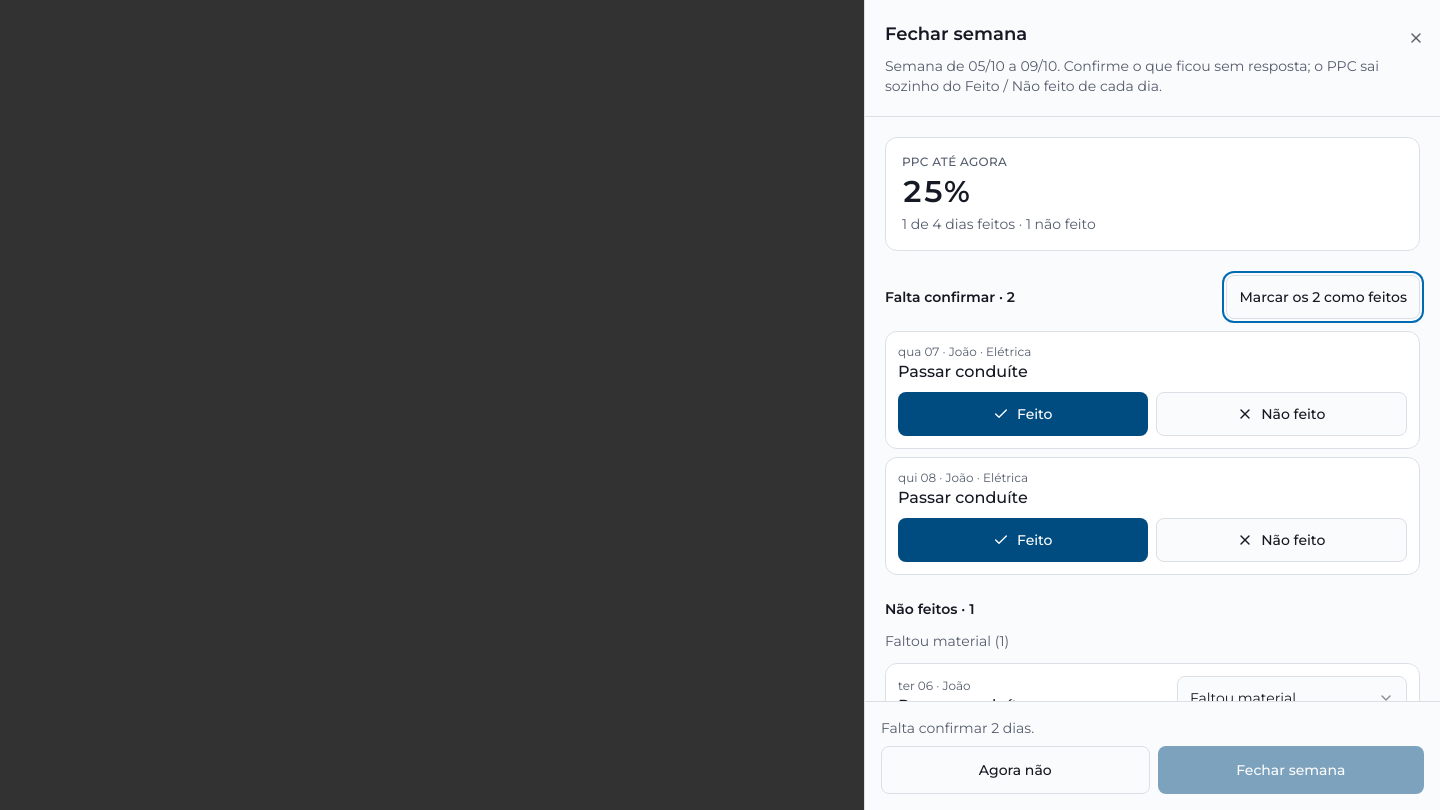
CloseWeekSheet › 'Feito' grava na hora e tira o dia da lista
Click the button with aria-label "Feito: Passar conduíte, qua 07". click: coordinates (1023, 414)
box: left=898, top=392, right=1148, bottom=436
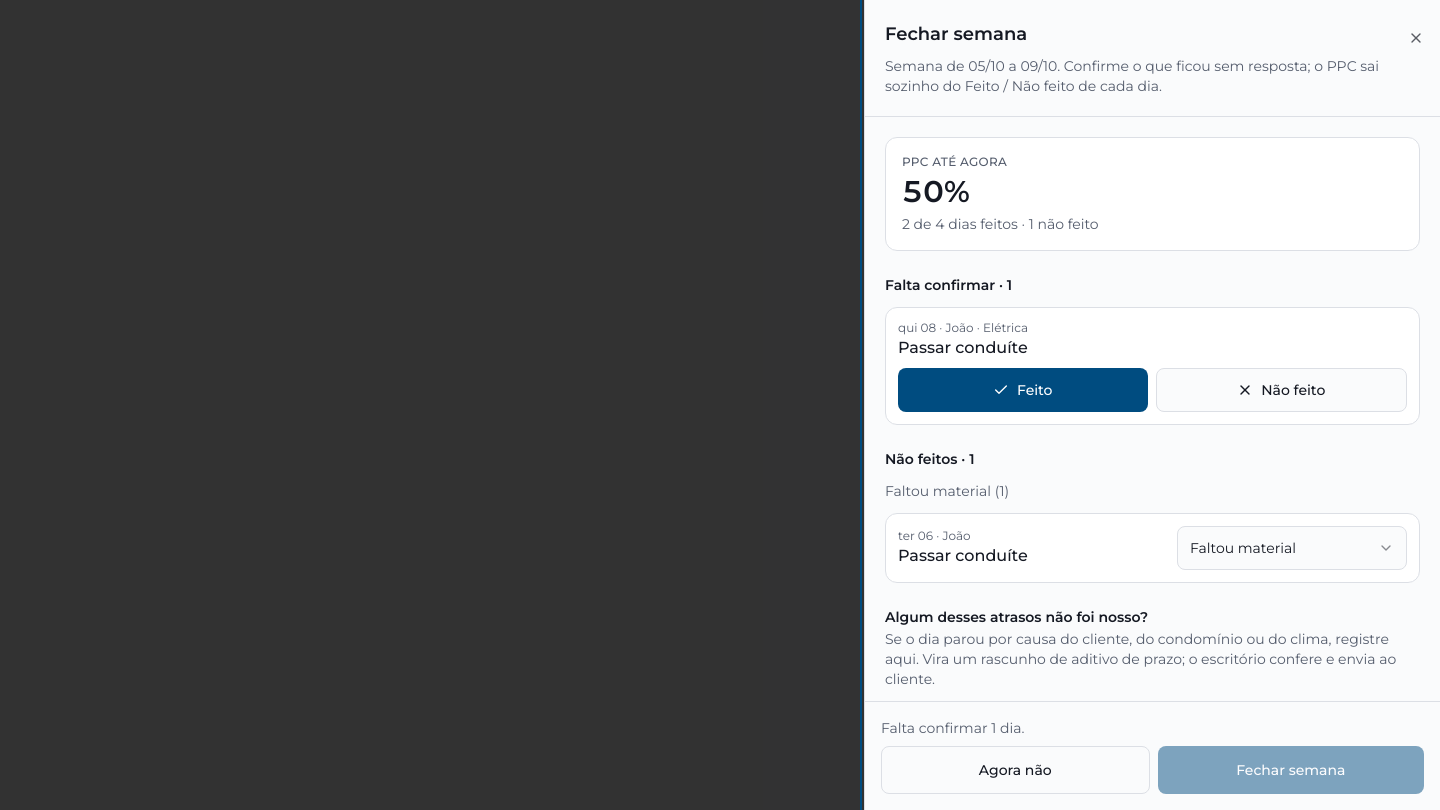
Check: the heading "Falta confirmar · 1" is shown, box left=885, top=275, right=1012, bottom=295
Check: the text "50%" is shown, box left=902, top=173, right=970, bottom=210
